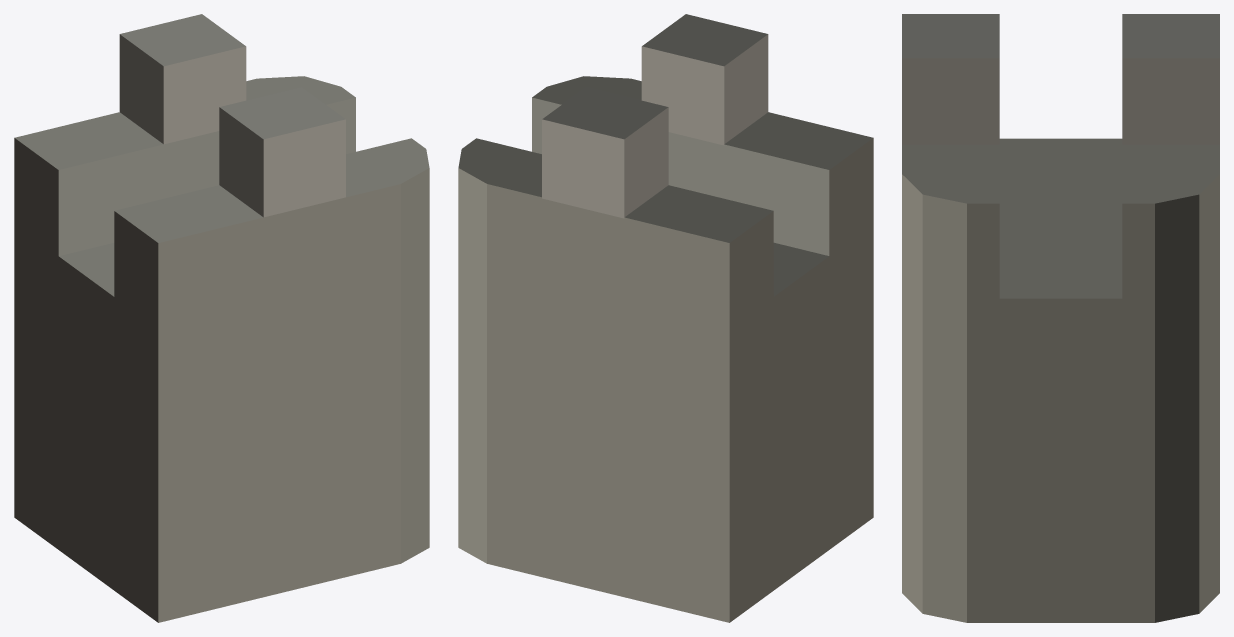
The model's file is castle12.fbx.
3 renders of one model, left to right at view 1: azimuth 30°, elevation 25°; view 2: azimuth 150°, elevation 25°; view 3: azimuth 270°, elevation 25°, orthographic. The views are drawn at different scales.
Parts seen in each view (by area): view 1: castle12; view 2: castle12; view 3: castle12.
Boxes of the visible parts, bbox=[...] form: castle12: bbox=[14, 14, 429, 622]; castle12: bbox=[458, 14, 873, 622]; castle12: bbox=[902, 14, 1219, 622].
Bounding box in the file's own units: 1.17 × 1.72 × 0.98.
1 material, 1 textured.
